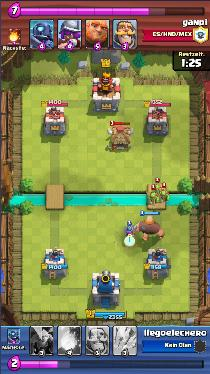ally_giant: (136, 215, 166, 242)
ally_musketeer: (124, 226, 135, 239)
enemy_goblin_hut: (105, 126, 134, 150)
enemy_spear_goblin: (160, 189, 170, 202), (148, 193, 158, 204), (154, 185, 161, 195)
